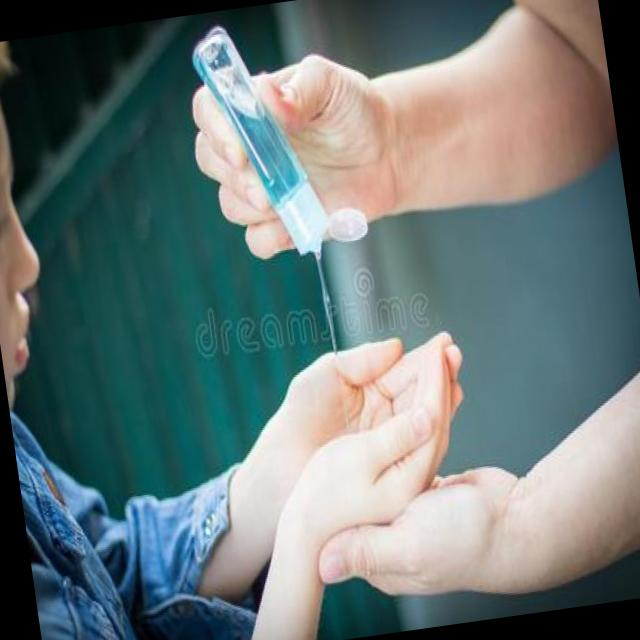sanitizer: (186, 10, 370, 263)
